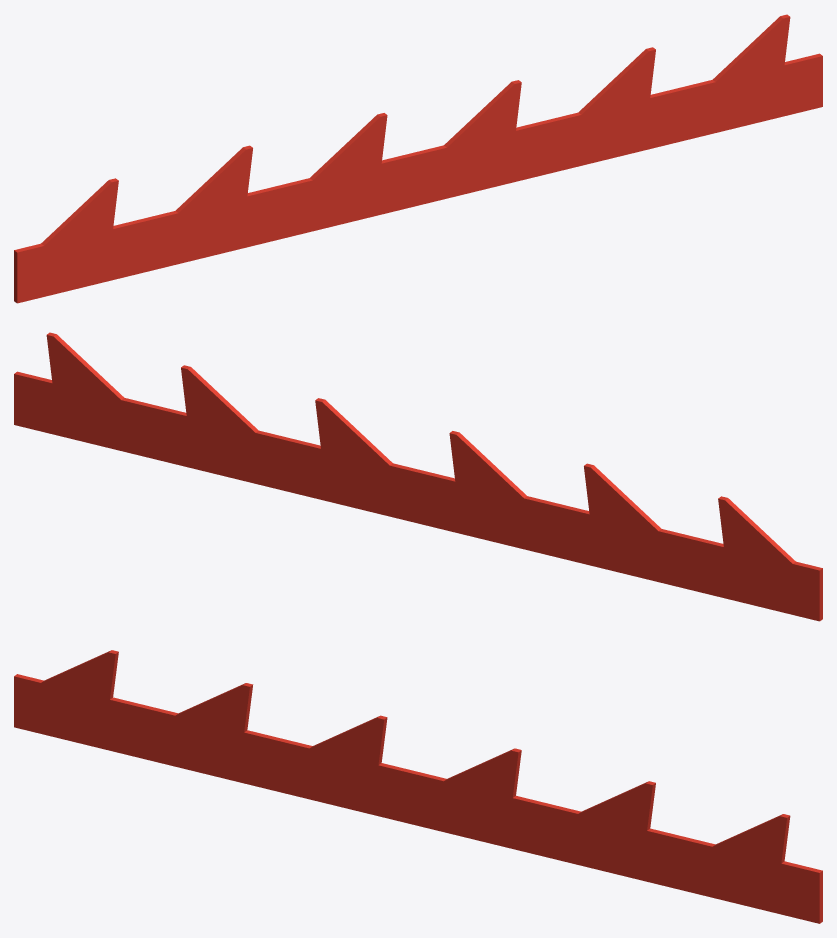
Rendered from wavy.fbx.
3 renders of one model, top to bottom at view 1: azimuth 30°, elevation 25°; view 2: azimuth 150°, elevation 25°; view 3: azimuth 330°, elevation 25°, orthographic.
Visible parts, largest first — view 1: ukrivo; view 2: ukrivo; view 3: ukrivo.
Boxes of the visible parts, x1,y1,x2,y2 form: ukrivo: [14, 14, 822, 303]; ukrivo: [14, 332, 822, 621]; ukrivo: [14, 650, 822, 923].
Size of the model in its own units: 77.82 by 9.05 by 0.5408.
1 material, 1 textured.
